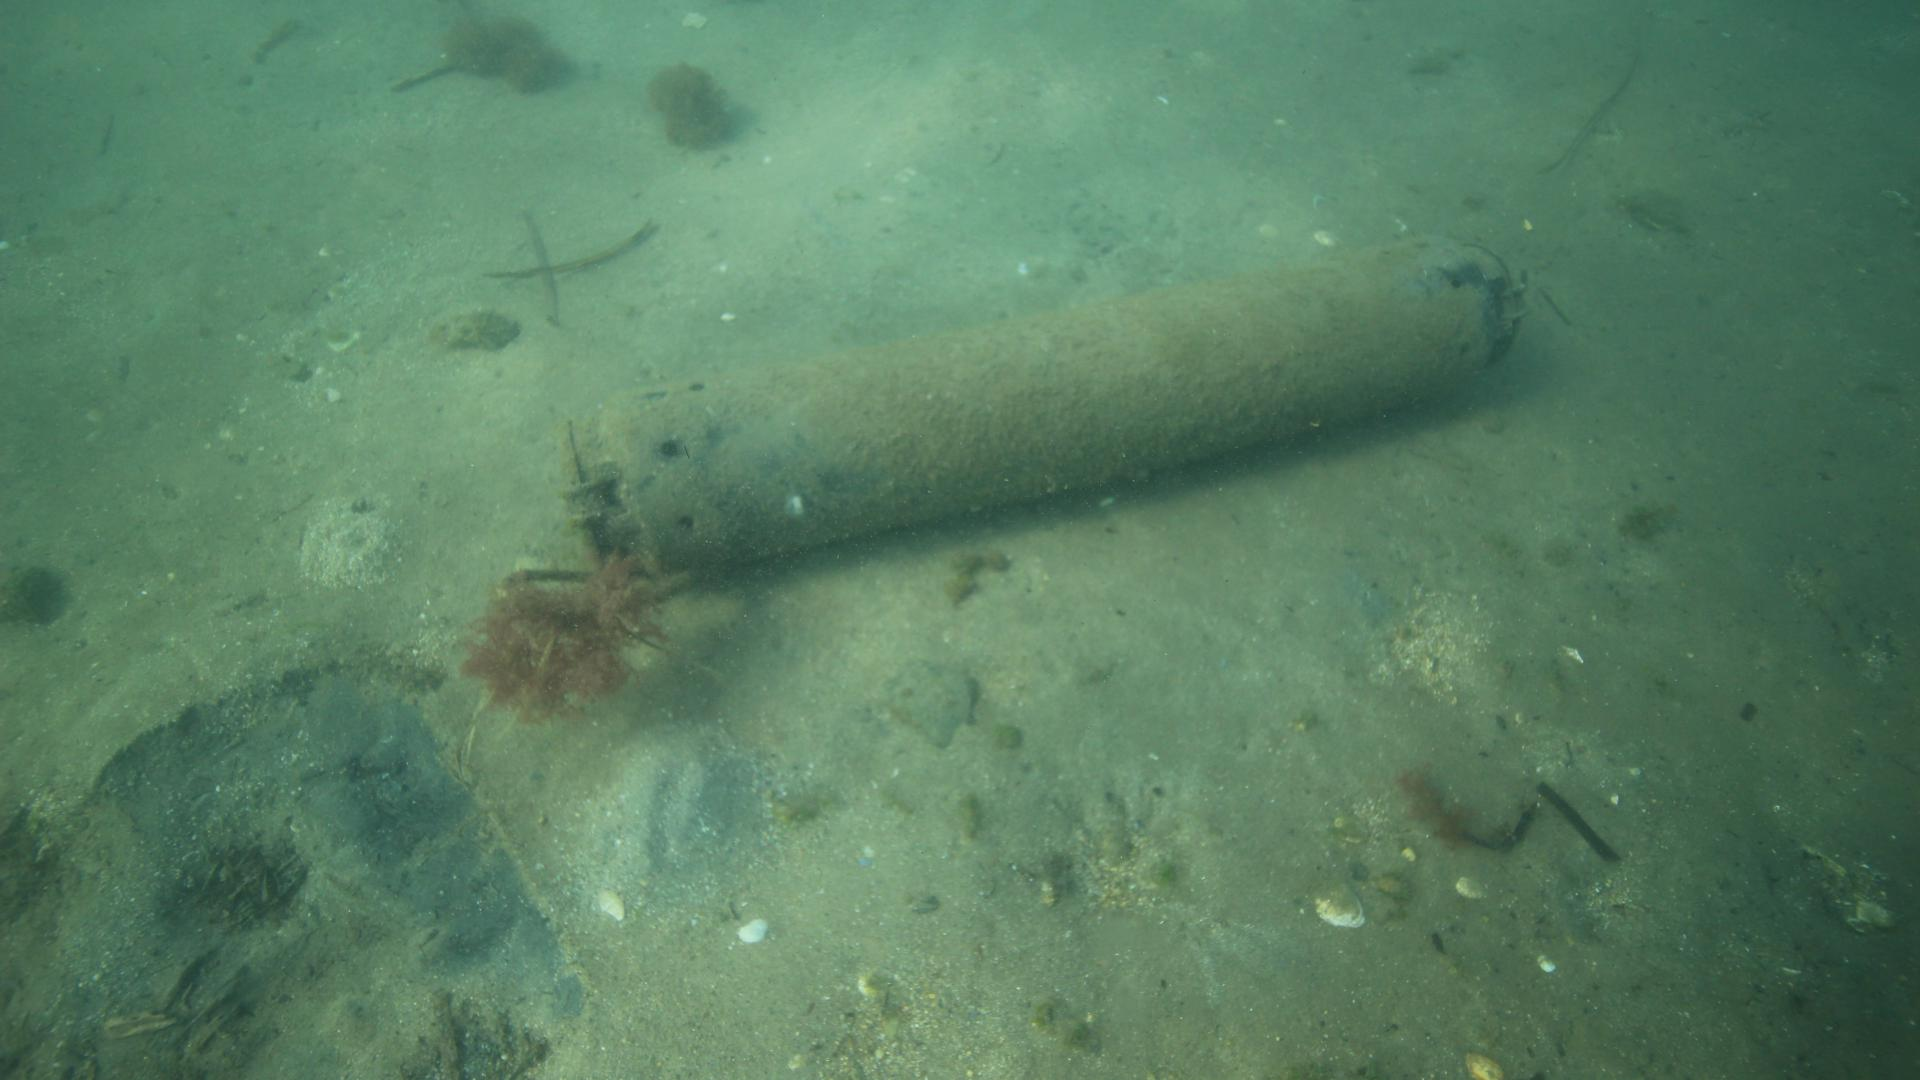eel fish trap: (553, 237, 1528, 585)
